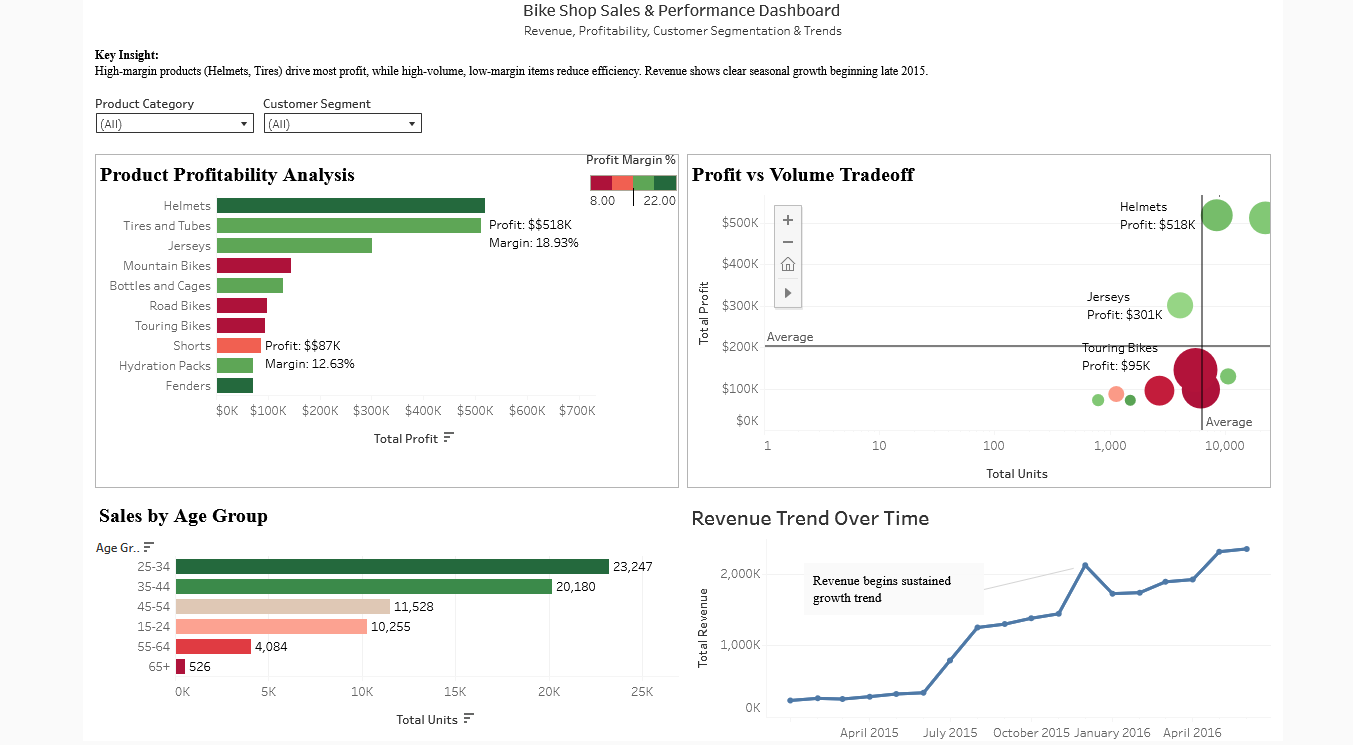

Layout of this report page (visuals, bound fields, positions):
{"tool":"tableau","page":{"name":"Bike Shop Sales & Performance Dashboard","canvas":[1200,800],"ordinal":0},"visuals":[{"type":"text","box":[8,8,1184,47]},{"type":"text","box":[8,55,1184,43]},{"type":"filter","title":"Product Profitability","param":"[federated.0qn1ccj1e5a07b17a6r0s0owo1vk].[none:subCategory:nk]","box":[8,101,168,58]},{"type":"filter","title":"Age Group Analysis","param":"[federated.1m1xevk1nnxpwu11v4va915akrfb].[none:age_group:nk]","box":[176,101,168,58]},{"type":"worksheet","title":"Product Profitability","mark":"Automatic","rows":["subCategory"],"cols":["total_profit"],"box":[8,161,592,345]},{"type":"worksheet","title":"Profit vs Volume","mark":"Circle","rows":["total_profit"],"cols":["total_units"],"box":[600,161,592,345]},{"type":"legend","title":"Product Profitability","param":"[federated.0qn1ccj1e5a07b17a6r0s0owo1vk].[sum:profit_margin_pct:qk]","box":[503,165,95,55]},{"type":"worksheet","title":"Age Group Analysis","mark":"Automatic","rows":["age_group"],"cols":["total_units"],"box":[8,506,592,286]},{"type":"worksheet","title":"Revenue Trend","mark":"Line","rows":["total_revenue"],"cols":["month"],"box":[600,506,592,286]}]}

Visuals, with their boxes on the page's 1200x800 design canvas (x1, y1, x2, y2). These are canvas units, not pixel positions in the 1353x745 screenshot, which may show the page scaled, cropped or inside an application window:
text: [8,8,1192,55]
text: [8,55,1192,98]
"Product Profitability" filter: [8,101,176,159]
"Age Group Analysis" filter: [176,101,344,159]
"Product Profitability" worksheet: [8,161,600,506]
"Profit vs Volume" worksheet (Circle marks): [600,161,1192,506]
"Product Profitability" legend: [503,165,598,220]
"Age Group Analysis" worksheet: [8,506,600,792]
"Revenue Trend" worksheet (Line marks): [600,506,1192,792]
